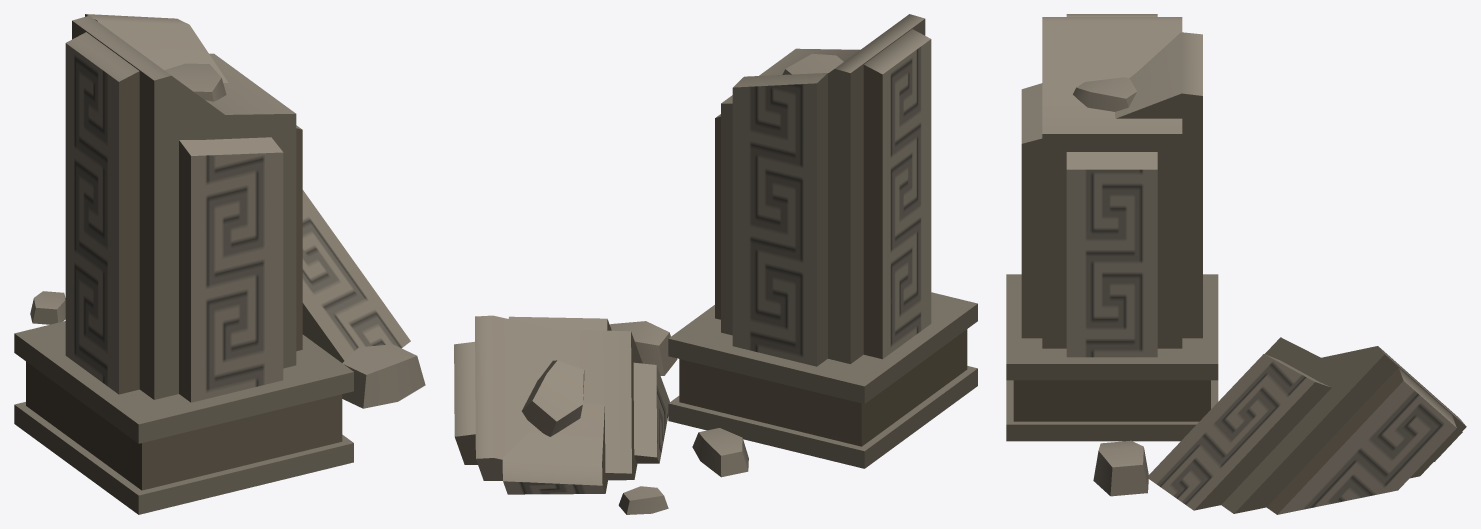
Rendered from SF_Bld_Ruins_Pillar_02.fbx.
The picture shows the model from 3 angles, left to right: view 1: azimuth 30°, elevation 25°; view 2: azimuth 150°, elevation 25°; view 3: azimuth 270°, elevation 25°; orthographic projection. The views are drawn at different scales.
Visible parts, largest first — view 1: SF_Bld_Ruins_Pillar_02; view 2: SF_Bld_Ruins_Pillar_02; view 3: SF_Bld_Ruins_Pillar_02.
Part boxes in pixels (box(x1,y1,x2,y2)): SF_Bld_Ruins_Pillar_02: box(14, 14, 425, 514); SF_Bld_Ruins_Pillar_02: box(454, 14, 977, 514); SF_Bld_Ruins_Pillar_02: box(1006, 14, 1466, 514).
Size of the model in its own units: 4.44 by 4.44 by 5.29.
